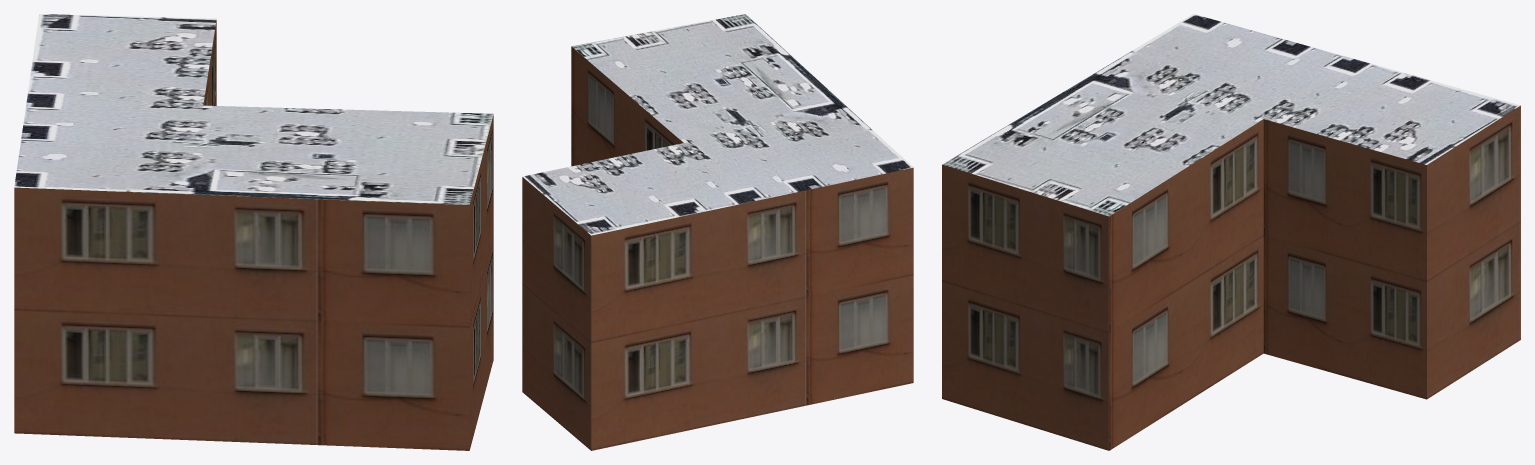
Rendered from ResTex__4698.fbx.
3 renders of one model, left to right at view 1: azimuth 30°, elevation 25°; view 2: azimuth 150°, elevation 25°; view 3: azimuth 270°, elevation 25°, orthographic. The views are drawn at different scales.
Parts seen in each view (by area): view 1: CityEngineMaterial_20_m, CityEngineMaterial_4_m; view 2: CityEngineMaterial_20_m, CityEngineMaterial_4_m; view 3: CityEngineMaterial_20_m, CityEngineMaterial_4_m.
Part boxes in pixels (box(x1,y1,x2,y2)): CityEngineMaterial_20_m: box(14, 20, 493, 450); CityEngineMaterial_4_m: box(14, 14, 493, 204); CityEngineMaterial_20_m: box(522, 46, 913, 450); CityEngineMaterial_4_m: box(522, 14, 913, 235); CityEngineMaterial_20_m: box(942, 105, 1520, 450); CityEngineMaterial_4_m: box(942, 14, 1520, 216).
Bounding box in the file's own units: 11.12 × 6 × 13.42.
Materials: 2 (2 with a texture image).
